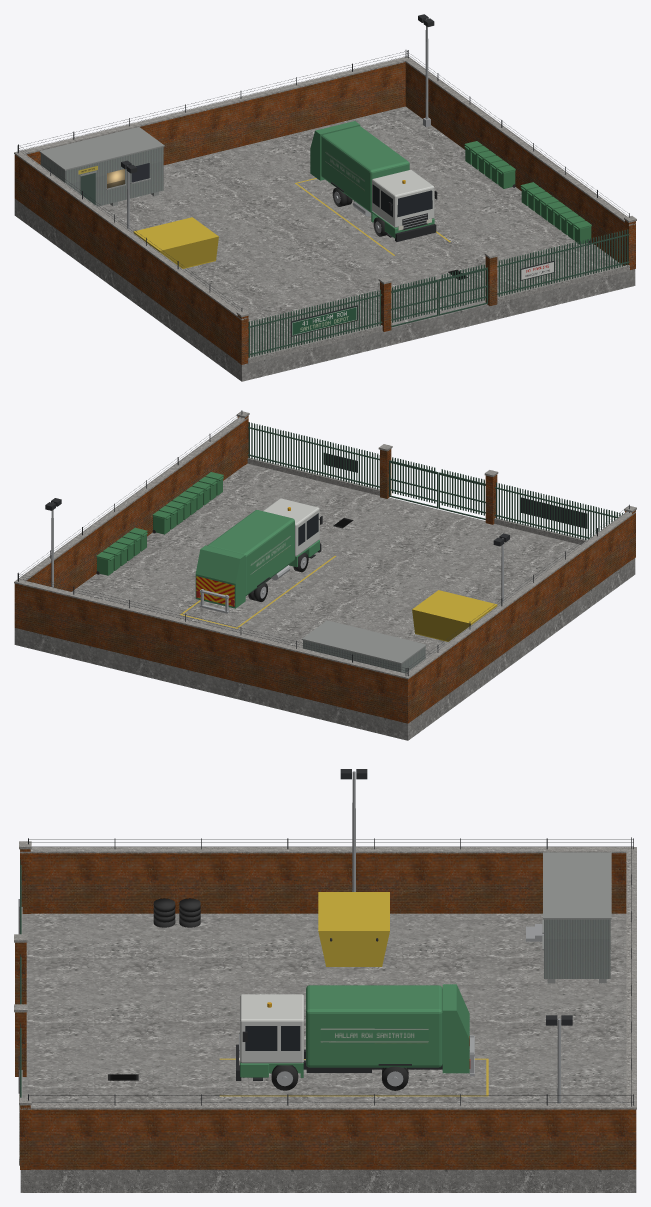
Rendered from depot_yard.glb.
3 renders of one model, top to bottom at view 1: azimuth 30°, elevation 25°; view 2: azimuth 150°, elevation 25°; view 3: azimuth 270°, elevation 25°, orthographic. The views are drawn at different scales.
Visible parts, largest first — view 1: Yard_Concrete, Wall_Brick, Trim_Concrete, trash_truck_body, Fence_Steel, Bin_Green, Office_Panel, Office_Trim.001, Skip_Yellow, Metal_Dark, Leaf_depot_gate_E, Leaf_depot_gate_W (+3 smaller); view 2: Yard_Concrete, Wall_Brick, Trim_Concrete, Fence_Steel, trash_truck_body, Bin_Green, Metal_Dark, Truck_tailgate, Skip_Yellow, Office_Trim.001, Leaf_depot_gate_E, Leaf_depot_gate_W (+1 smaller); view 3: Yard_Concrete, Wall_Brick, trash_truck_body, Trim_Concrete, Skip_Yellow, Office_Trim.001, Metal_Dark, Office_Panel, Truck_tailgate, Rubber_Black, Steel_Grey, Paint_Yellow (+1 smaller).
Part boxes in pixels (box(x1,y1,x2,y2)): Yard_Concrete: box(14, 106, 635, 381); Wall_Brick: box(14, 62, 635, 364); Trim_Concrete: box(14, 56, 636, 363); trash_truck_body: box(321, 126, 437, 241); Fence_Steel: box(248, 229, 629, 357); Bin_Green: box(464, 141, 591, 244); Office_Panel: box(40, 147, 163, 206); Office_Trim.001: box(39, 127, 164, 206); Skip_Yellow: box(133, 217, 218, 268); Metal_Dark: box(17, 14, 629, 336); Leaf_depot_gate_E: box(438, 264, 487, 315); Leaf_depot_gate_W: box(391, 276, 438, 327); Yard_Concrete: box(14, 463, 635, 740); Wall_Brick: box(14, 415, 635, 723); Trim_Concrete: box(14, 411, 636, 679); Fence_Steel: box(248, 422, 622, 540); trash_truck_body: box(207, 498, 322, 595); Bin_Green: box(96, 472, 223, 575); Metal_Dark: box(17, 410, 629, 675); Truck_tailgate: box(195, 545, 245, 613); Skip_Yellow: box(412, 590, 497, 641); Office_Trim.001: box(301, 620, 426, 664); Leaf_depot_gate_E: box(389, 457, 438, 508); Leaf_depot_gate_W: box(438, 469, 485, 519); Yard_Concrete: box(20, 913, 636, 1192); Wall_Brick: box(15, 849, 636, 1169); trash_truck_body: box(236, 985, 442, 1080); Trim_Concrete: box(14, 841, 636, 1165); Skip_Yellow: box(318, 892, 389, 966); Office_Trim.001: box(542, 852, 611, 983); Metal_Dark: box(18, 769, 633, 1106); Office_Panel: box(544, 919, 610, 978); Truck_tailgate: box(442, 984, 474, 1076); Rubber_Black: box(153, 898, 200, 927); Steel_Grey: box(352, 771, 560, 1103); Paint_Yellow: box(219, 1058, 488, 1096).
Size of the model in its own units: 24.14 by 7.25 by 24.3.
30 materials, 8 textured.
